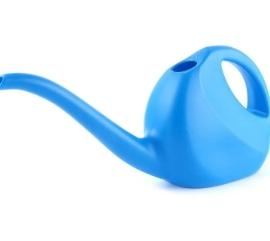ARROSOIR: (0, 43, 270, 210)
